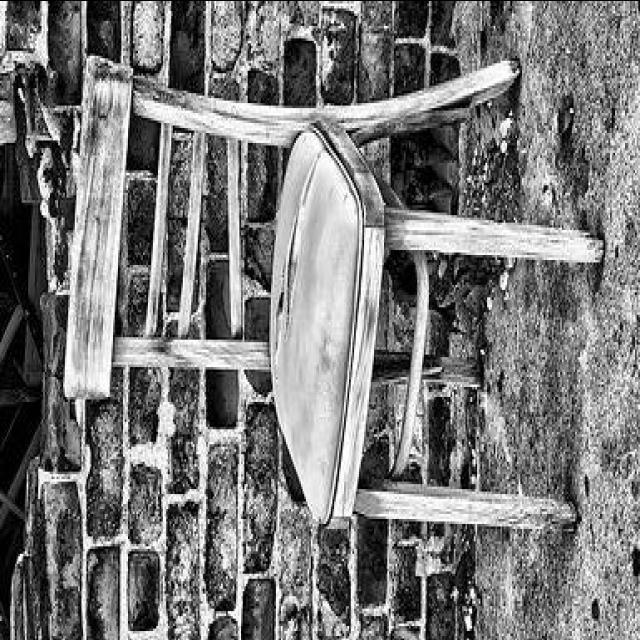chair: (58, 48, 600, 540)
